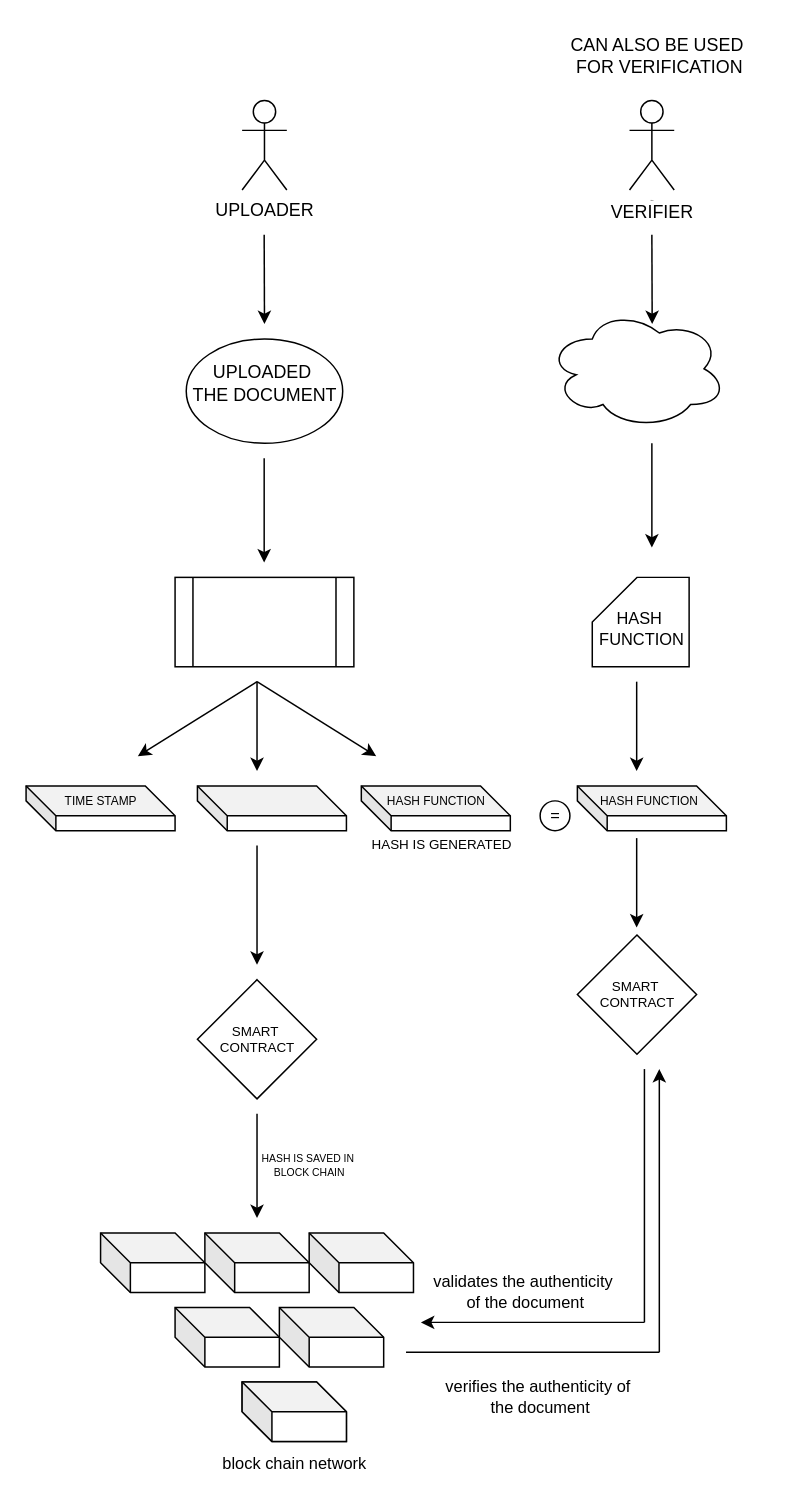
Image size: 790x1511. Some labels were removed from this diagram. Each missing label, with the centre of its shape:
"GET CONTENTS OF THE DOCUMENT" goes at point (264, 621).
"ORIGIN" goes at point (271, 807).
"UPLOADS THE ORIGINAL DOCUMENT FOR VERIFICATION" goes at point (636, 368).
